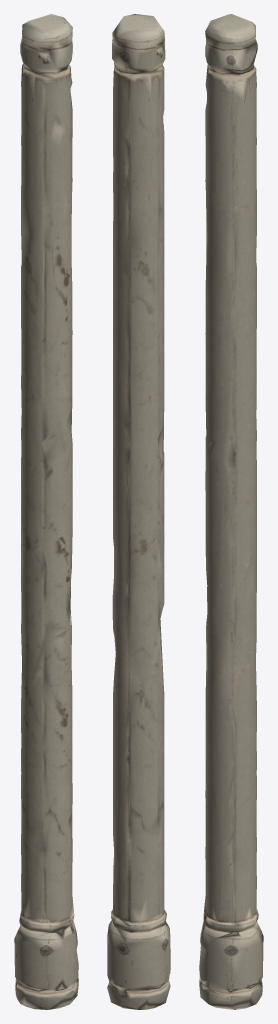
The model's file is obstacle-wall-pole.glb.
The picture shows the model from 3 angles, left to right: view 1: azimuth 90°, elevation 25°; view 2: azimuth 150°, elevation 25°; view 3: azimuth 270°, elevation 25°; orthographic projection.
Bounding box in the file's own units: 0.1152 × 1.9 × 0.1143.
Materials: 1 (1 with a texture image).
